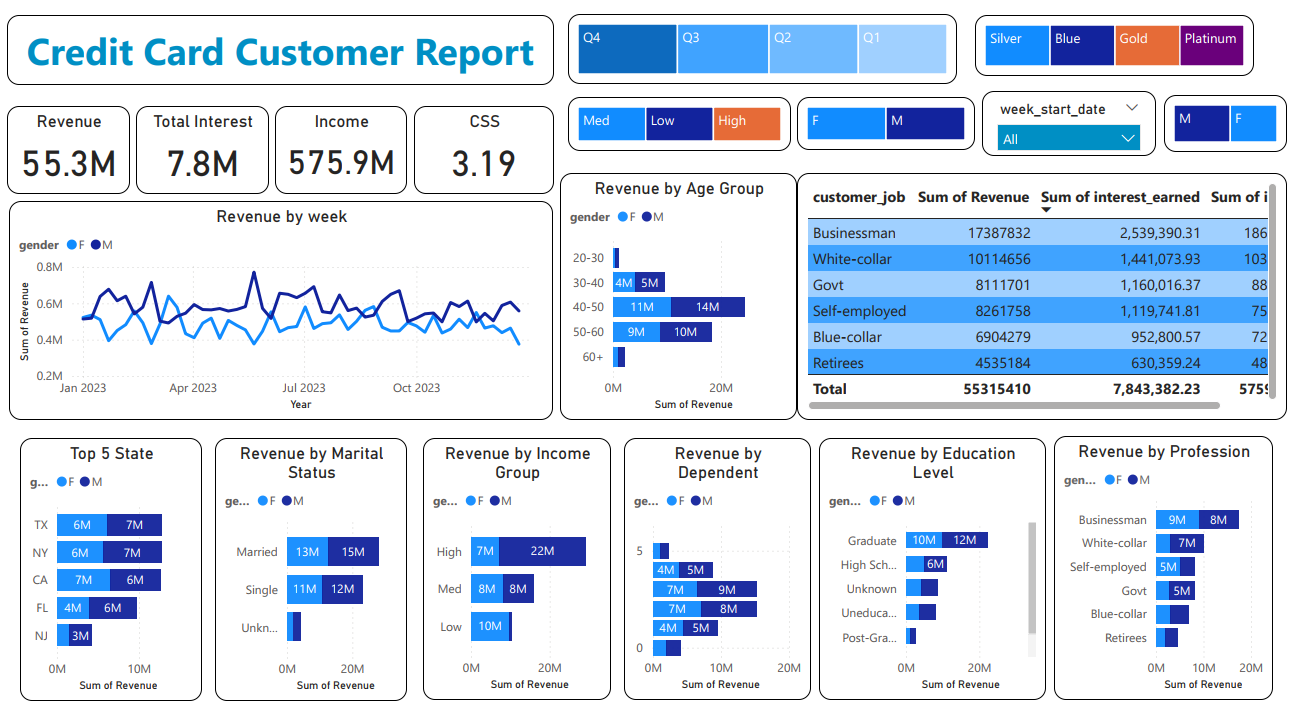

What the dashboard file says about the page in this screenshot:
{"tool":"powerbi","page":{"name":"Customers Report","canvas":[1280,720],"ordinal":2},"visuals":[{"type":"textbox","box":[0,22.2,547.1,70],"z":0},{"type":"tableEx","fields":{"Values":["public cust_detail.customer_job","Sum(public cc_detail.Revenue)","Sum(public cc_detail.interest_earned)","Sum(public cust_detail.income)"]},"box":[789.9,180,489.9,247.2],"z":1000},{"type":"card","title":"Revenue","fields":{"Values":["Sum(public cc_detail.Revenue)"]},"box":[0,112.6,123.3,88.7],"z":2000},{"type":"card","title":"Total Interest","fields":{"Values":["Sum(public cc_detail.interest_earned)"]},"box":[129.5,112.6,132.1,88.7],"z":3000},{"type":"card","title":"Income","fields":{"Values":["Sum(public cust_detail.income)"]},"box":[267.8,112.6,132.1,88.7],"z":4000},{"type":"card","title":"CSS","fields":{"Values":["Avg(public cust_detail.cust_satisfaction_score)"]},"box":[407,112.6,140.1,88.7],"z":5000},{"type":"slicer","fields":{"Values":["public cc_detail.week_start_date"]},"box":[975.2,97.6,173.7,65.4],"z":6000},{"type":"treemap","fields":{"Group":["public cc_detail.qtr"],"Values":["Avg(public cc_detail.client_num)"]},"box":[561.5,21.5,388.7,69.9],"z":7000},{"type":"treemap","fields":{"Group":["public cust_detail.gender"],"Values":["Avg(public cc_detail.client_num)"]},"box":[789.9,103.9,178.2,52.8],"z":8000},{"type":"treemap","fields":{"Group":["public cc_detail.card_category"],"Values":["Avg(public cc_detail.client_num)"]},"box":[968.1,22.4,279.4,60.9],"z":9000},{"type":"treemap","fields":{"Values":["Avg(public cc_detail.client_num)"],"Group":["public cust_detail.IncomeGroup"]},"box":[561.5,103.9,222.1,53.7],"z":10000},{"type":"barChart","title":"Revenue by Income Group","fields":{"Y":["Sum(public cc_detail.Revenue)"],"Category":["public cust_detail.IncomeGroup"],"Series":["public cust_detail.gender"]},"box":[416.4,445.1,187.2,262.4],"z":11000},{"type":"lineChart","title":"Revenue by week","fields":{"Y":["Sum(public cc_detail.Revenue)"],"Series":["public cust_detail.gender"],"Category":["public cc_detail.week_start_date.Variation.Date Hierarchy.Year","public cc_detail.week_start_date.Variation.Date Hierarchy.Quarter","public cc_detail.week_start_date.Variation.Date Hierarchy.Month","public cc_detail.week_start_date.Variation.Date Hierarchy.Day"]},"box":[1.8,207.8,544.5,219.4],"z":12000},{"type":"treemap","fields":{"Group":["public cust_detail.gender"],"Values":["Sum(public cc_detail.Revenue)"]},"box":[1157,102.1,122.7,57.3],"z":13000},{"type":"barChart","title":"Revenue by Age Group","fields":{"Y":["Sum(public cc_detail.Revenue)"],"Category":["public cust_detail.AgeGroup"],"Series":["public cust_detail.gender"]},"box":[553.4,180,236.4,247.2],"z":14000},{"type":"barChart","title":"Revenue by Education Level","fields":{"Y":["Sum(public cc_detail.Revenue)"],"Category":["public cust_detail.education_level"],"Series":["public cust_detail.gender"]},"box":[812.2,445.1,226.6,262.4],"z":15000},{"type":"barChart","title":"Revenue by Profession","fields":{"Y":["Sum(public cc_detail.Revenue)"],"Category":["public cust_detail.customer_job"],"Series":["public cust_detail.gender"]},"box":[1046.9,443.3,219.4,264.2],"z":16000},{"type":"barChart","title":"Top 5 State","fields":{"Y":["Sum(public cc_detail.Revenue)"],"Category":["public cust_detail.state_cd"],"Series":["public cust_detail.gender"]},"box":[13.4,445.1,181.8,263.3],"z":17000},{"type":"barChart","title":"Revenue by Marital Status","fields":{"Y":["Sum(public cc_detail.Revenue)"],"Category":["public cust_detail.marital_status"],"Series":["public cust_detail.gender"]},"box":[207.8,445.1,192.5,263.3],"z":18000},{"type":"barChart","title":"Revenue by Dependent","fields":{"Y":["Sum(public cc_detail.Revenue)"],"Category":["public cust_detail.dependent_count"],"Series":["public cust_detail.gender"]},"box":[617,445.1,187.2,262.4],"z":19000}]}

Visuals, with their boxes in screenshot pixels (x1, y1, x2, y2), scaled from the page's 1280x720 canvas onto the 1291x706 screenshot:
textbox: bbox(0, 22, 552, 90)
tableEx - public cust_detail.customer_job x Sum(public cc_detail.Revenue): bbox(797, 176, 1290, 419)
"Revenue" card: bbox(0, 110, 124, 197)
"Total Interest" card: bbox(131, 110, 264, 197)
"Income" card: bbox(270, 110, 403, 197)
"CSS" card: bbox(410, 110, 552, 197)
slicer - public cc_detail.week_start_date: bbox(984, 96, 1159, 160)
treemap - public cc_detail.qtr x Avg(public cc_detail.client_num): bbox(566, 21, 958, 90)
treemap - public cust_detail.gender x Avg(public cc_detail.client_num): bbox(797, 102, 976, 154)
treemap - public cc_detail.card_category x Avg(public cc_detail.client_num): bbox(976, 22, 1258, 82)
treemap - Avg(public cc_detail.client_num) x public cust_detail.IncomeGroup: bbox(566, 102, 790, 155)
"Revenue by Income Group" barChart: bbox(420, 436, 609, 694)
"Revenue by week" lineChart: bbox(2, 204, 551, 419)
treemap - public cust_detail.gender x Sum(public cc_detail.Revenue): bbox(1167, 100, 1290, 156)
"Revenue by Age Group" barChart: bbox(558, 176, 797, 419)
"Revenue by Education Level" barChart: bbox(819, 436, 1048, 694)
"Revenue by Profession" barChart: bbox(1056, 435, 1277, 694)
"Top 5 State" barChart: bbox(14, 436, 197, 695)
"Revenue by Marital Status" barChart: bbox(210, 436, 404, 695)
"Revenue by Dependent" barChart: bbox(622, 436, 811, 694)
